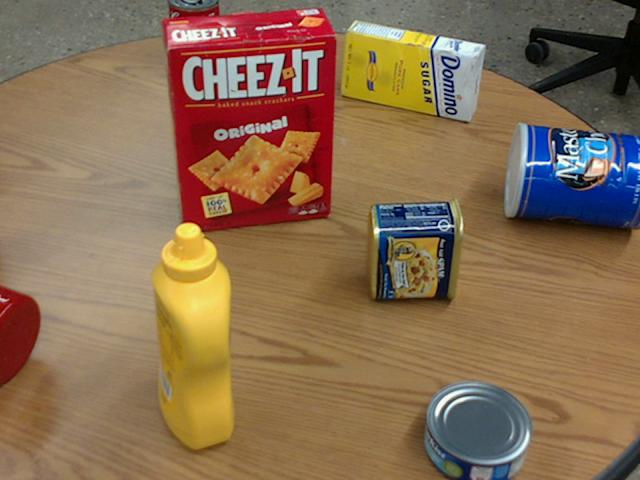cracker_box: (160, 9, 336, 231)
master_chef_can: (504, 122, 639, 228)
mug: (0, 283, 40, 382)
mustard_bottle: (148, 222, 232, 447)
potted_meat_can: (366, 196, 463, 299)
sugar_box: (342, 19, 487, 119)
tomato_soup_can: (169, 0, 222, 77)
tuna_fish_can: (422, 381, 529, 479)
